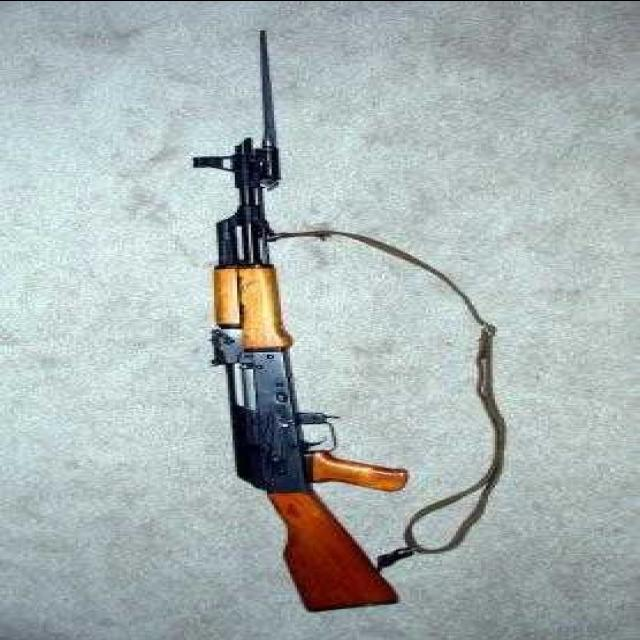heavyweapon: (190, 132, 457, 616)
